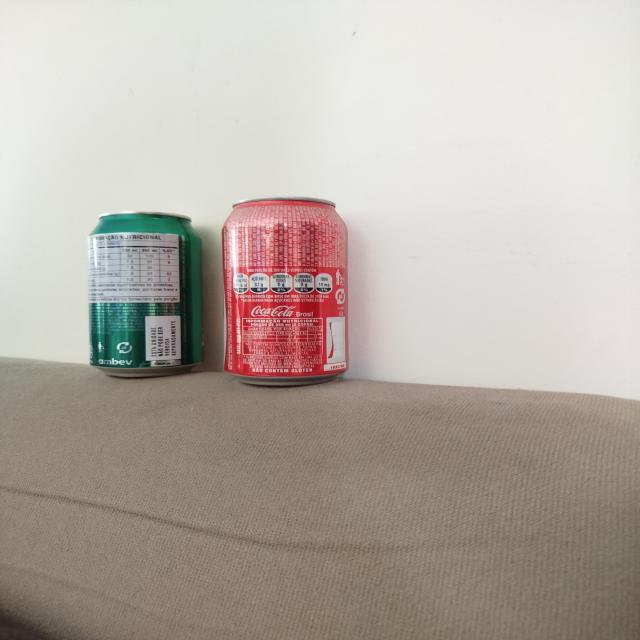Coca Cola: (222, 198, 351, 384)
Guarana: (88, 211, 204, 377)
